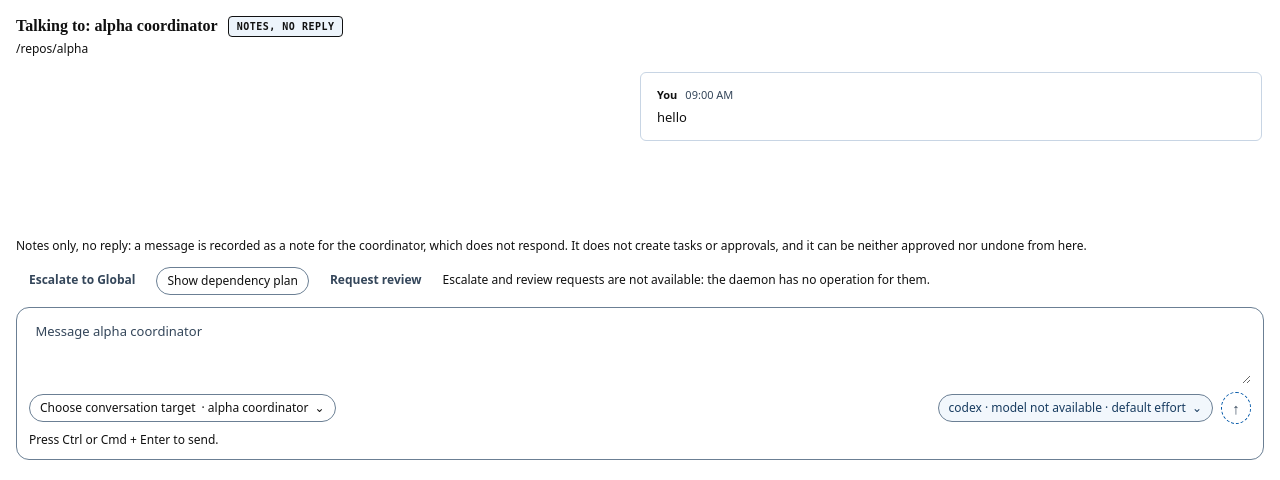
Test: workspace view, live (daemon-derived) mode › shows a real reply only when the daemon records one
Expected: the heading "Talking to: alpha coordinator" is shown, [16,16,218,37]
Click the button "Choose conversation target · alpha coordinator ⌄" at (182, 408), box [29,394,336,422]
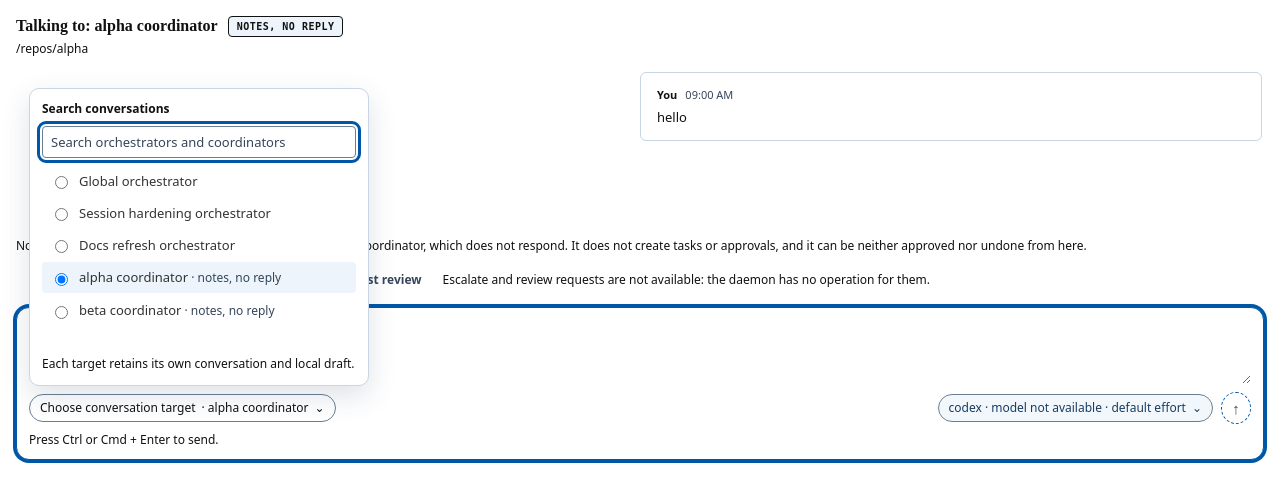
Click the radio button labelled "Global orchestrator" at (62, 182), box [55,176,68,189]
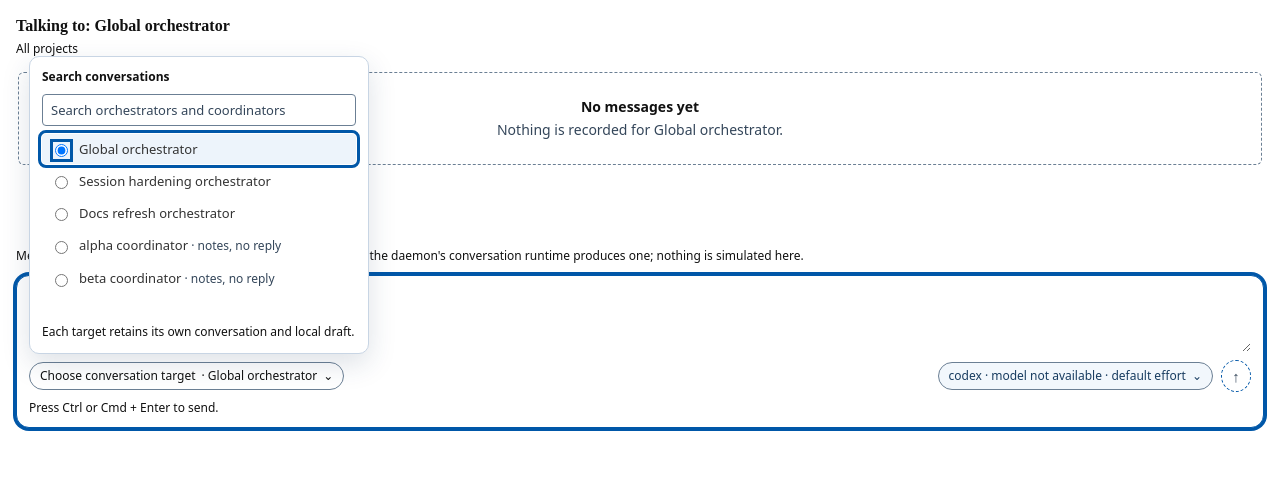
Type "hi" into the text box labelled "Message Global orchestrator" at (640, 319), box [29,286,1251,352]
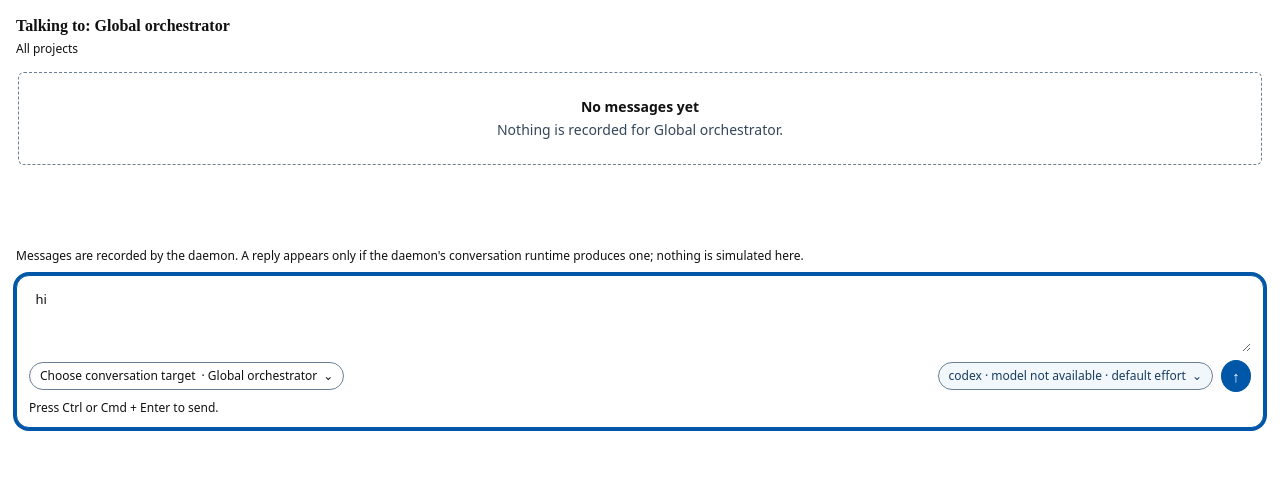
Click the button named "Send message to Global orchestrator" at (1236, 376), box [1221,360,1251,392]
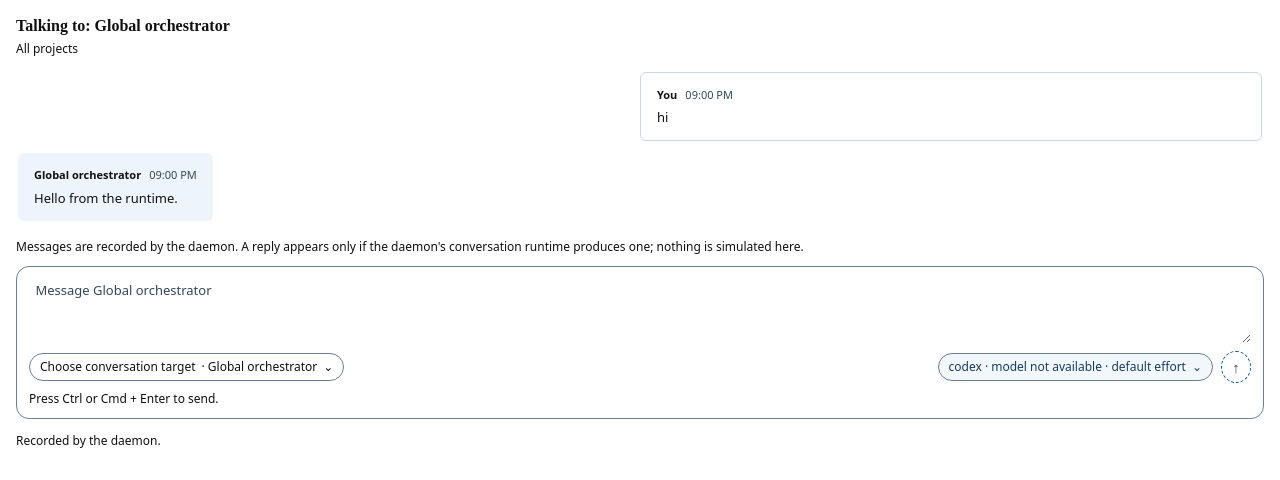
Expected: the text "Hello from the runtime." is shown, [34,189,197,207]
